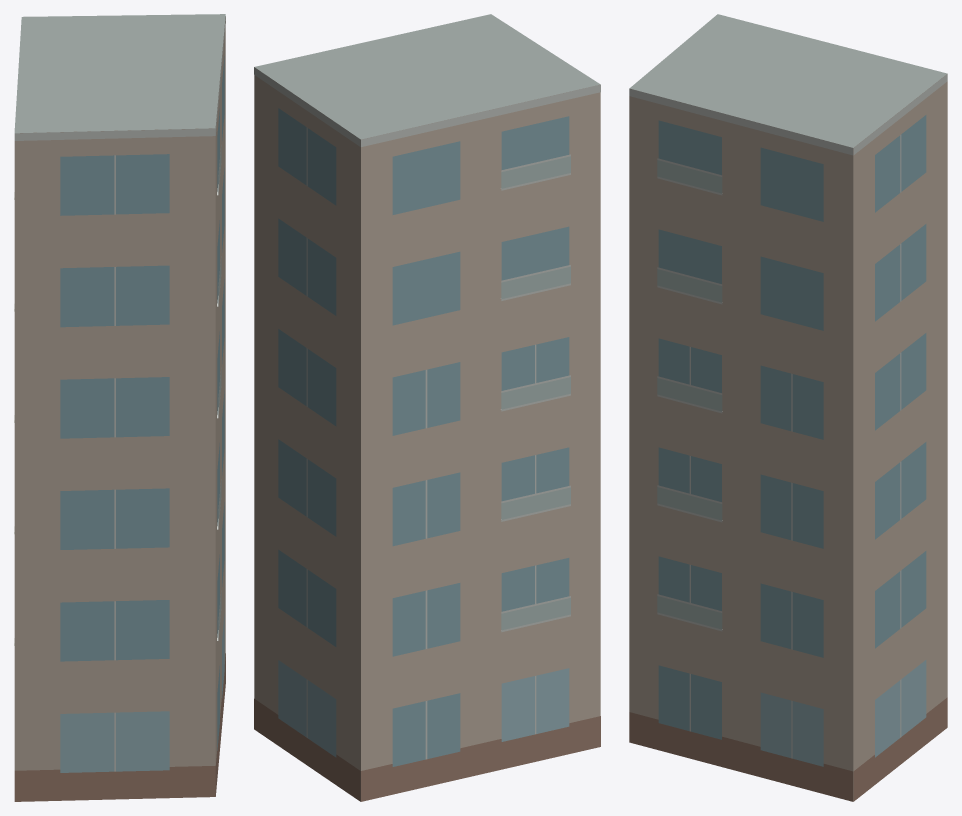
The model's file is survey-upis-32861467.glb.
3 renders of one model, left to right at view 1: azimuth 30°, elevation 25°; view 2: azimuth 150°, elevation 25°; view 3: azimuth 270°, elevation 25°, orthographic. The views are drawn at different scales.
Parts seen in each view (by area): view 1: survey-upis-32861467.tmp; view 2: survey-upis-32861467.tmp; view 3: survey-upis-32861467.tmp.
Boxes of the visible parts, x1,y1,x2,y2 form: survey-upis-32861467.tmp: (14, 14, 225, 801); survey-upis-32861467.tmp: (254, 14, 600, 801); survey-upis-32861467.tmp: (629, 14, 947, 801).
Bounding box in the file's own units: 9.19 × 20.9 × 9.23.
